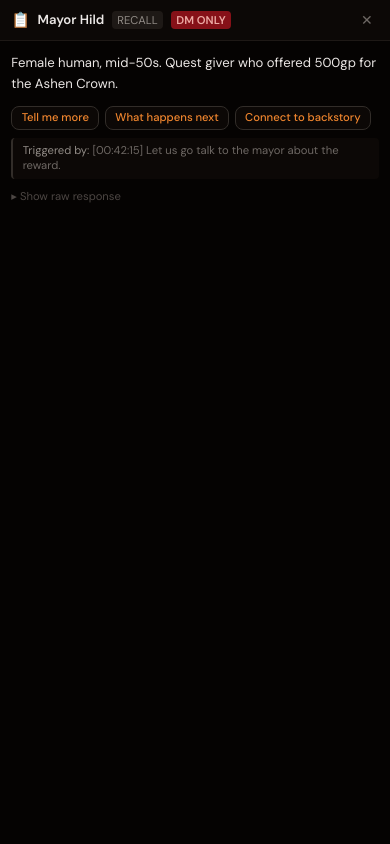
SuggestionDetail › shows the raw LLM response after toggling
Expected: the text "TYPE: RECALL" is not shown
Toggle open
Click the button "▸ Show raw response": coordinates (66, 197) [11, 189, 121, 204]
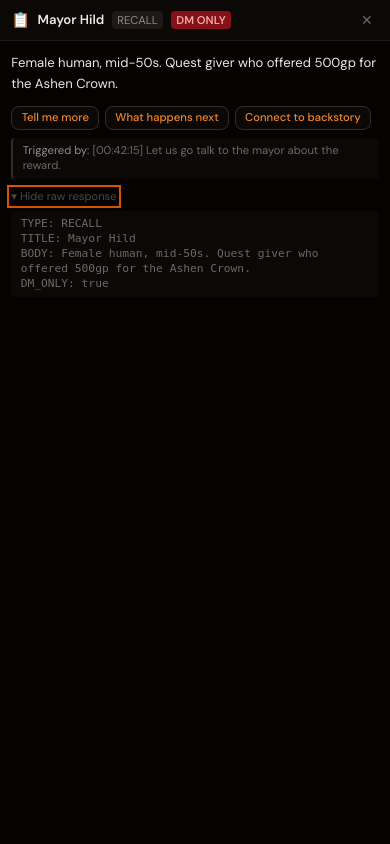
Expected: the text "TYPE: RECALL" is shown, [21, 217, 325, 290]
